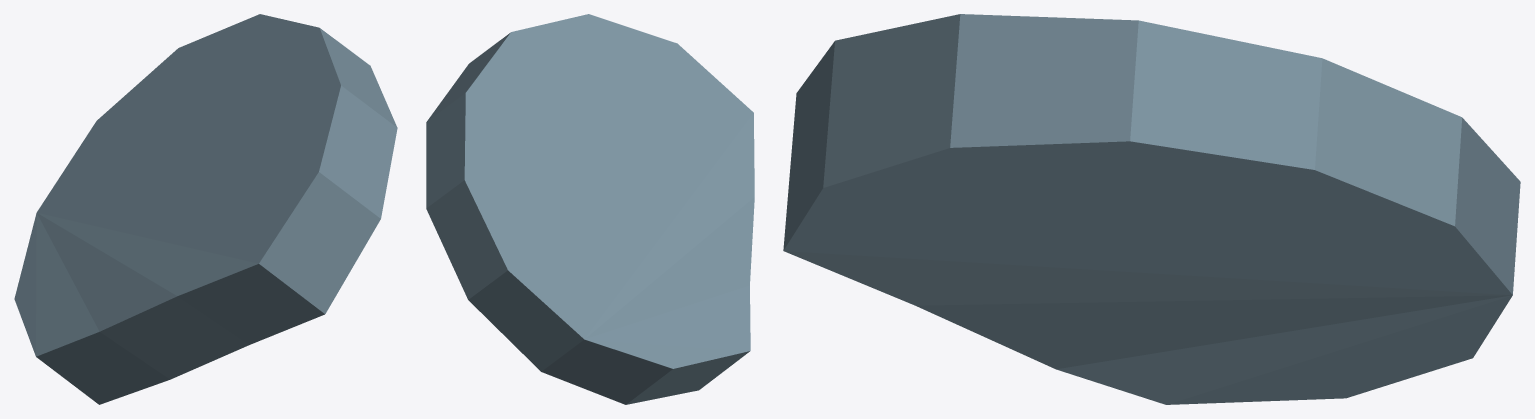
The model's file is astronaut_spawn_group2143627782_lev4.glb.
3 views of the same model, side by side, from view 1: azimuth 30°, elevation 25°; view 2: azimuth 150°, elevation 25°; view 3: azimuth 270°, elevation 25° (orthographic). The views are drawn at different scales.
Parts seen in each view (by area): view 1: astronaut_spawn_group2143627782_lev4; view 2: astronaut_spawn_group2143627782_lev4; view 3: astronaut_spawn_group2143627782_lev4.
Boxes of the visible parts, <box> form: astronaut_spawn_group2143627782_lev4: <box>14,14,397,404</box>; astronaut_spawn_group2143627782_lev4: <box>426,14,754,404</box>; astronaut_spawn_group2143627782_lev4: <box>783,14,1520,404</box>.
Size of the model in its own units: 0.1534 by 0.1517 by 0.1813.
